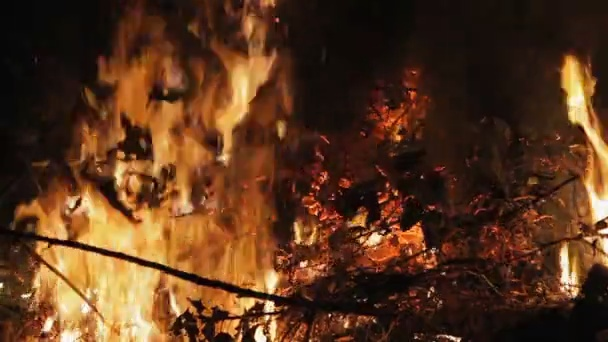fire: (13, 1, 295, 341), (558, 54, 598, 126), (585, 133, 608, 253), (557, 241, 579, 294), (366, 231, 383, 245)
